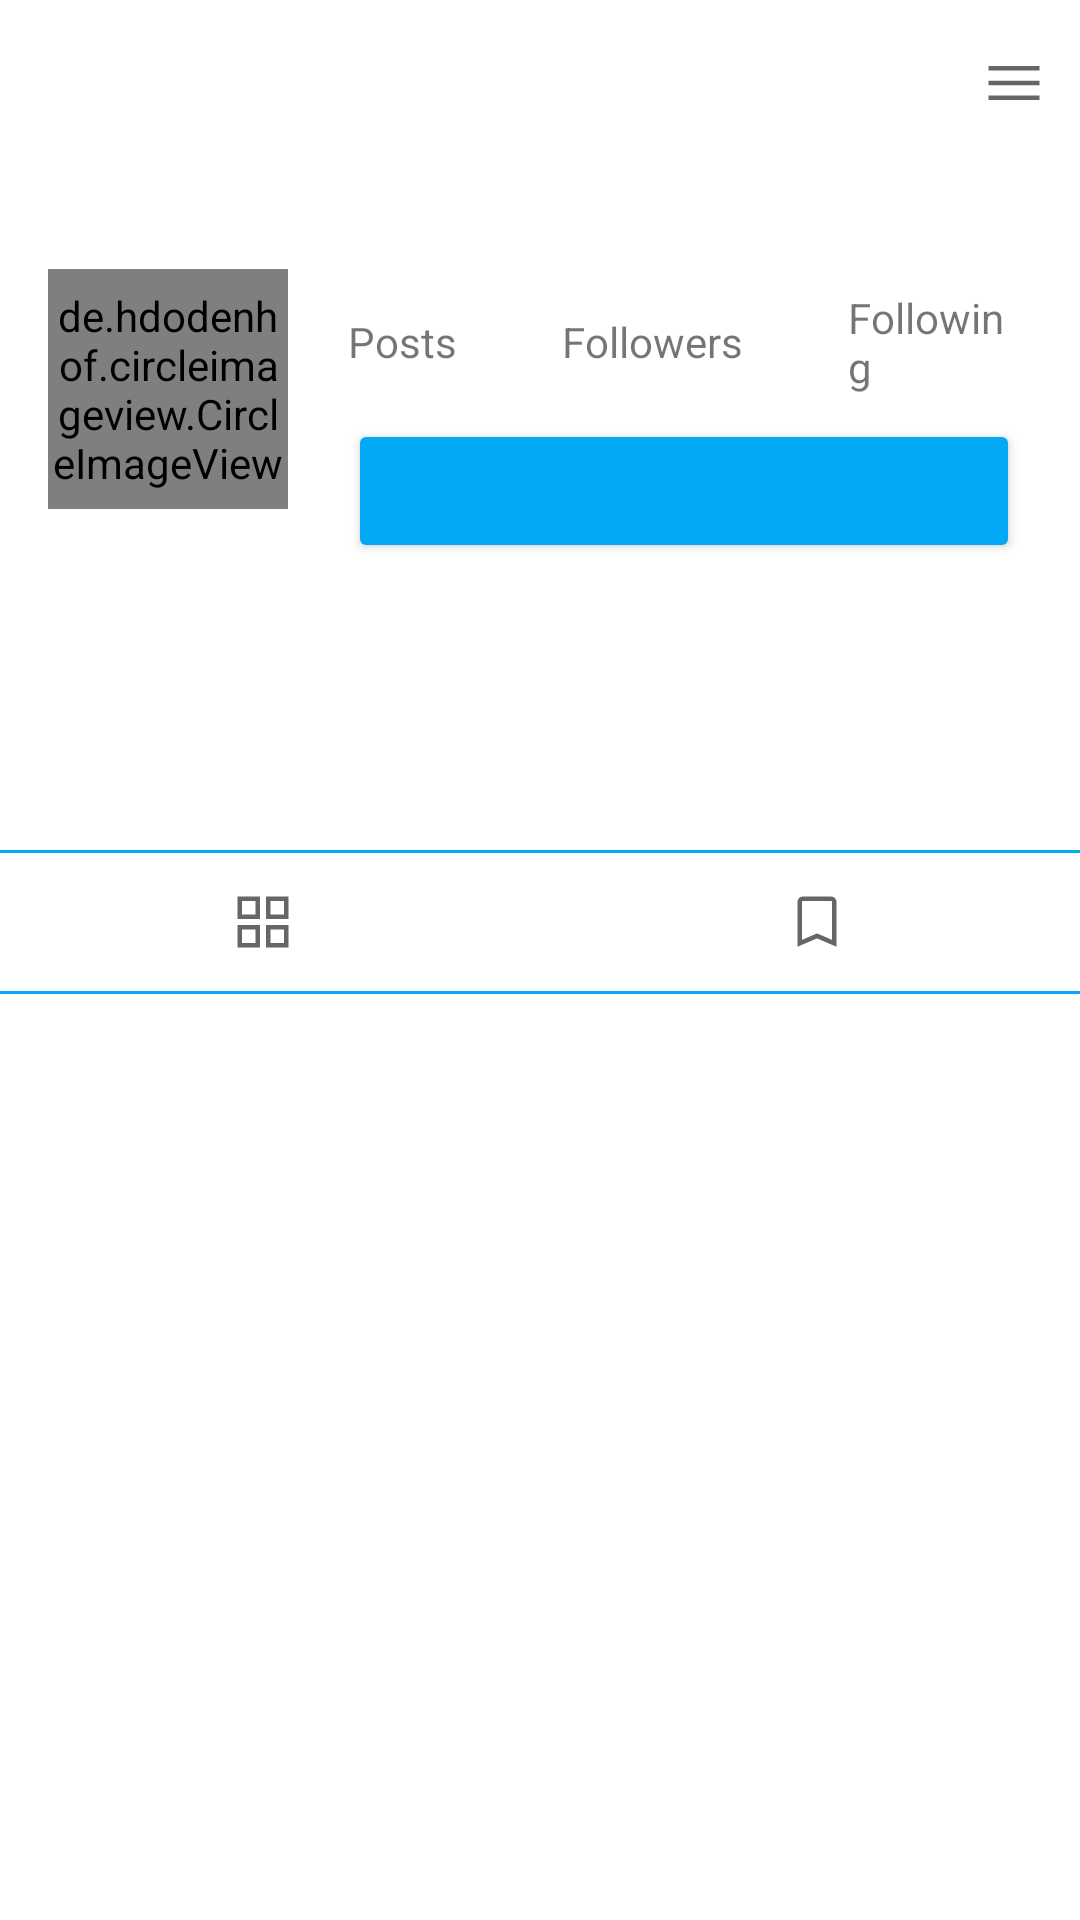

Icons on this 1080×1920 Android screen, each with its box as (x1, y1, x2, y2):
menu: (988, 66, 1040, 100)
